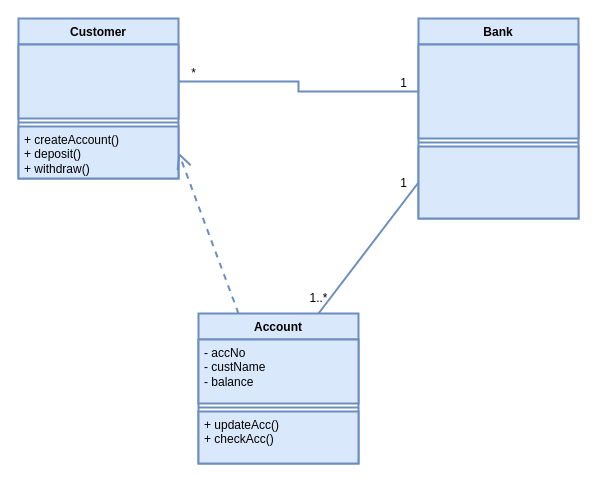
The diagram is 596 pixels wide and 483 high, and some of its shapes have lost their labels. The centre of each missing label's shape, as x and y in pixels:
+ giveLoan() + updateDetails() + collectMoney() + transaction(): point 498,182
- customerDetails - loanDetails - transNo - transDate - transTime: point 498,91
- customerName - AccNumber - Address - Phone: point 98,81
